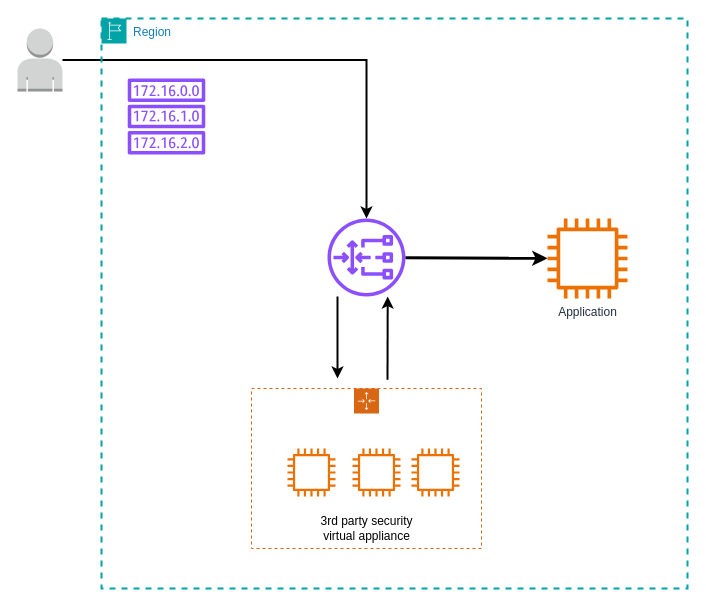
Image size: 706x606. Some labels were removed from this diagram. Each missing label, with the box of its shape:
target group: (250, 388, 482, 548)
User: (16, 28, 62, 92)
